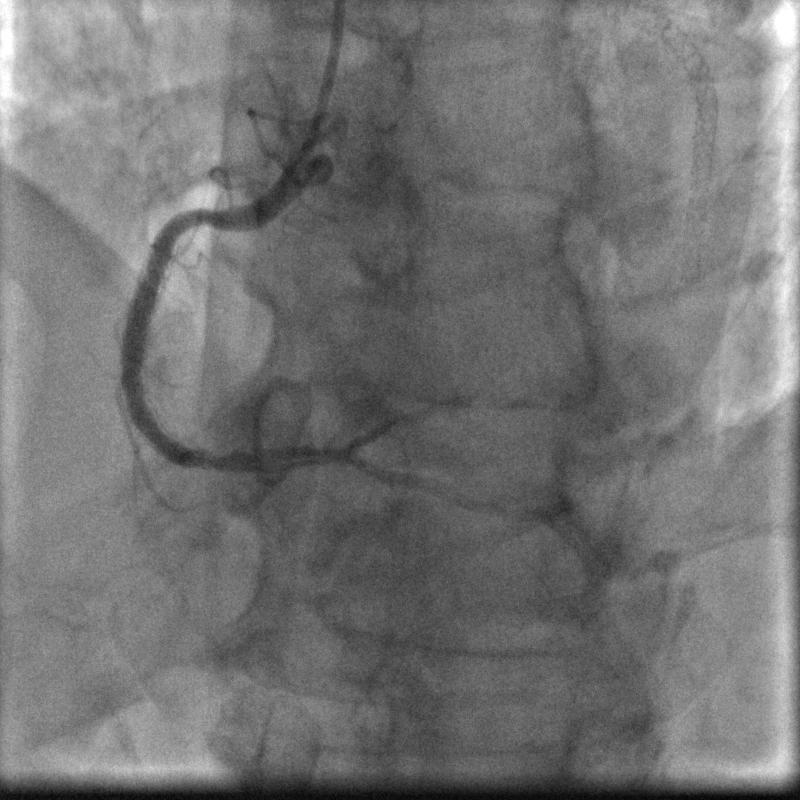Stenosis: (182, 192, 228, 243)
